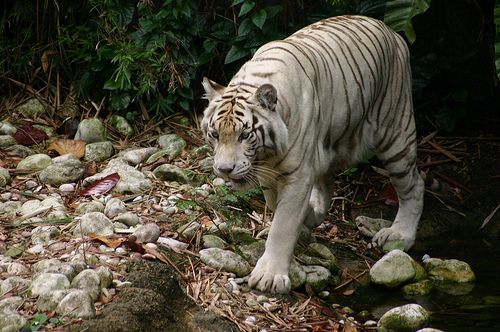Tigre: (186, 35, 430, 250)
